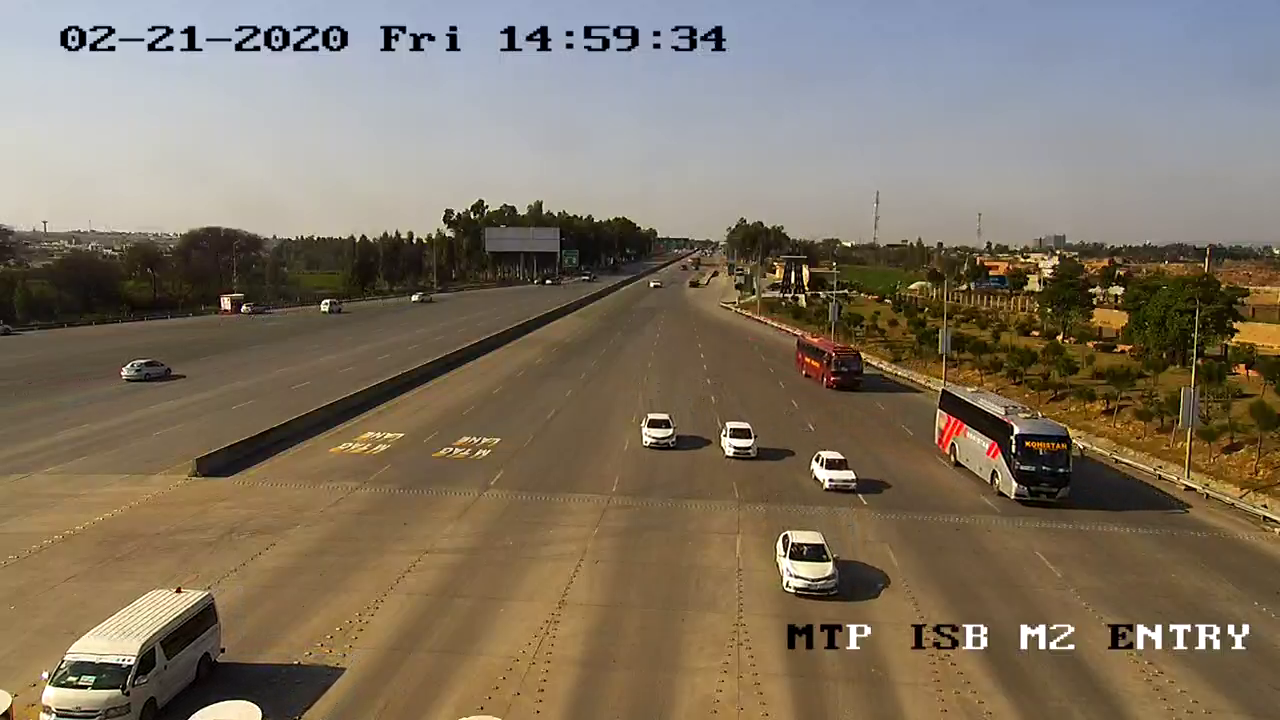f1: (762, 515, 853, 600), (806, 434, 866, 508), (631, 409, 688, 461), (713, 417, 764, 466)
f3: (34, 578, 242, 720)
f4: (917, 378, 1097, 517), (783, 331, 872, 401)
